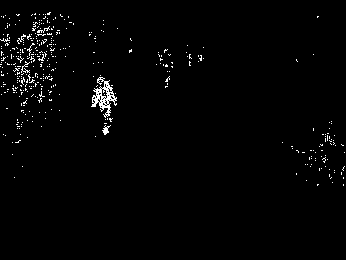person: (89, 74, 119, 137)
